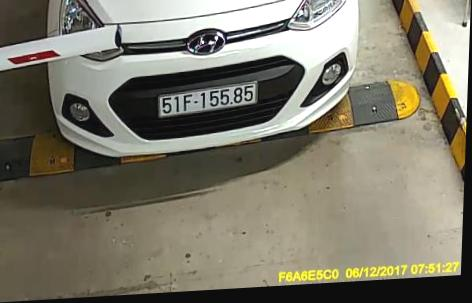License_Plate: (153, 81, 262, 122)
